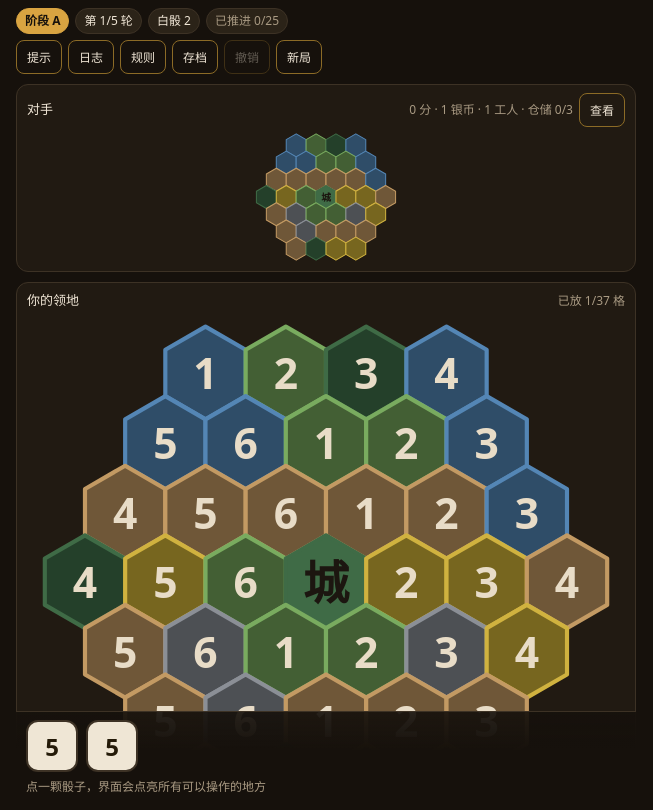
Scenario: 真实点击能推动对局 › 撤销按钮的可用状态跟着"栈里还有没有我自己的决定"走
Expected: the button "撤销" is disabled, left=224, top=40, right=270, bottom=74
Click the 1st button with class "die" at (52,746), box left=26, top=720, right=78, bottom=772
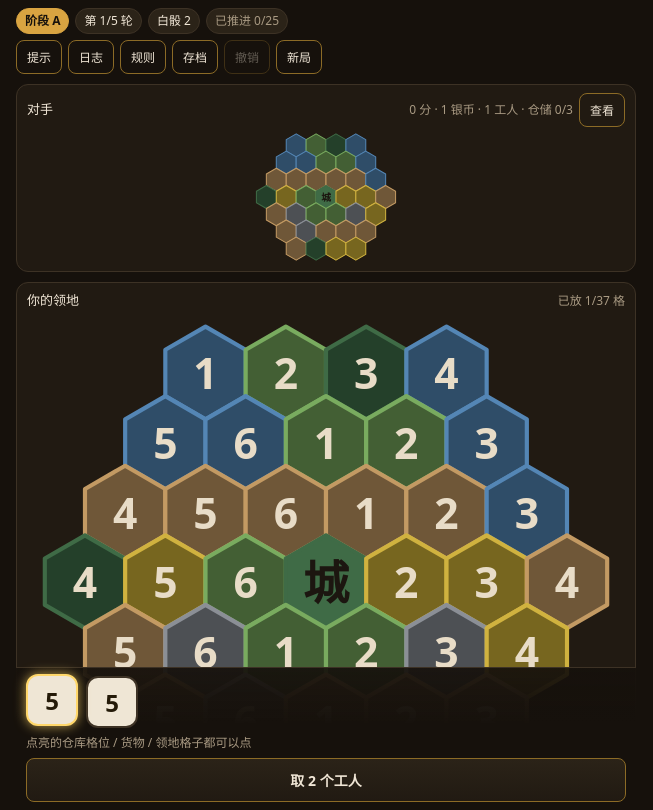
Click the button "取 2 个工人" at (326,780), box left=26, top=758, right=626, bottom=802
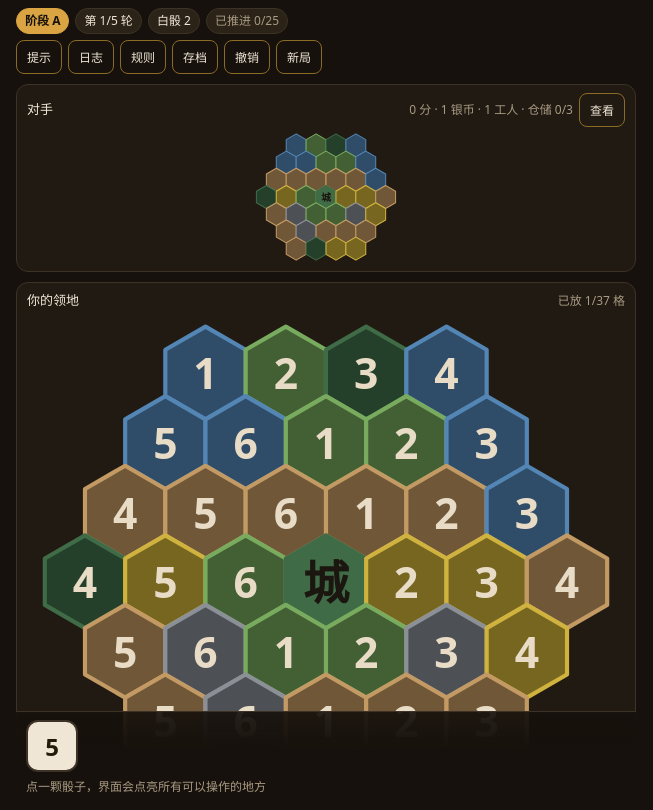
Result: the button "撤销" is enabled at left=224, top=40, right=270, bottom=74
